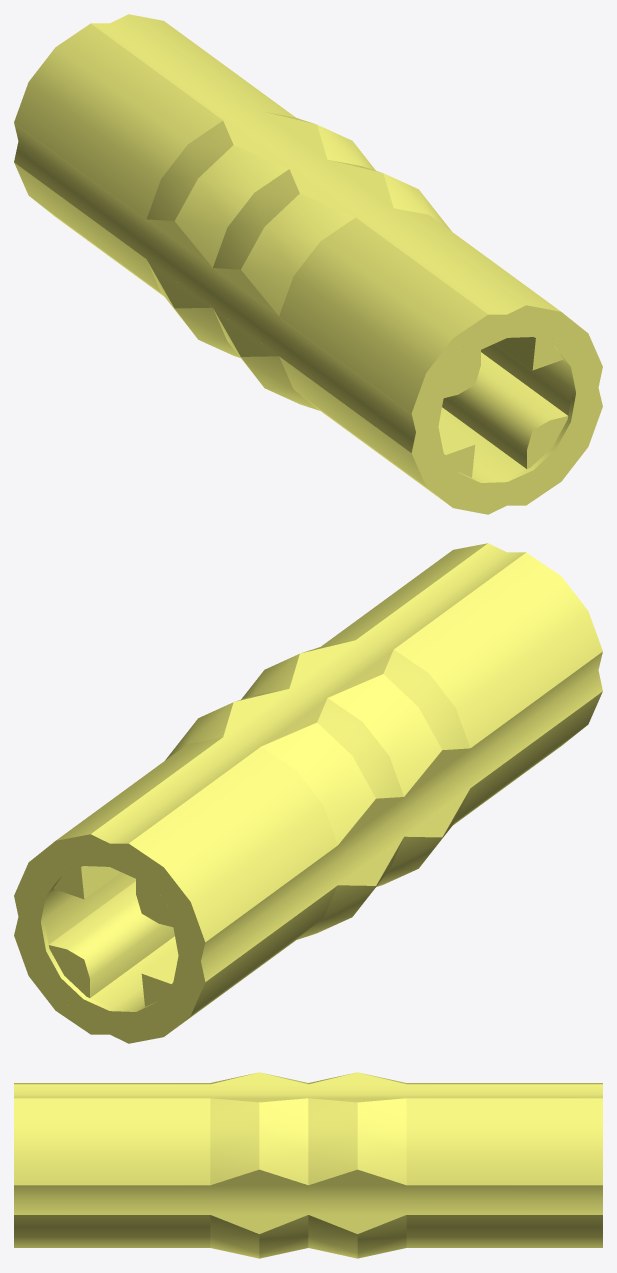
3 renders of one model, top to bottom at view 1: azimuth 30°, elevation 25°; view 2: azimuth 150°, elevation 25°; view 3: azimuth 270°, elevation 25°, orthographic. The views are drawn at different scales.
Visible parts, largest first — view 1: 18948.dat; view 2: 18948.dat; view 3: 18948.dat.
Boxes of the visible parts, box(x1,y1,x2,y2) form: 18948.dat: box(14, 14, 602, 514); 18948.dat: box(14, 543, 602, 1043); 18948.dat: box(14, 1072, 602, 1258).
Size of the model in its own units: 0.00702 by 0.00702 by 0.024.
